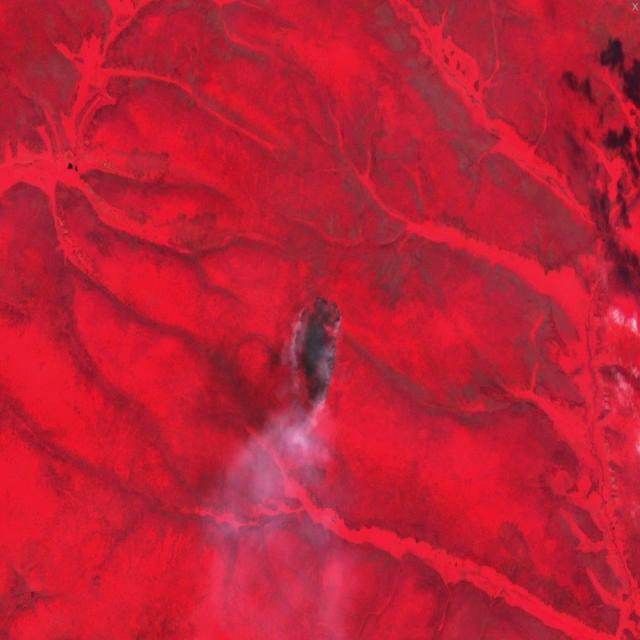fire: (288, 289, 345, 412)
